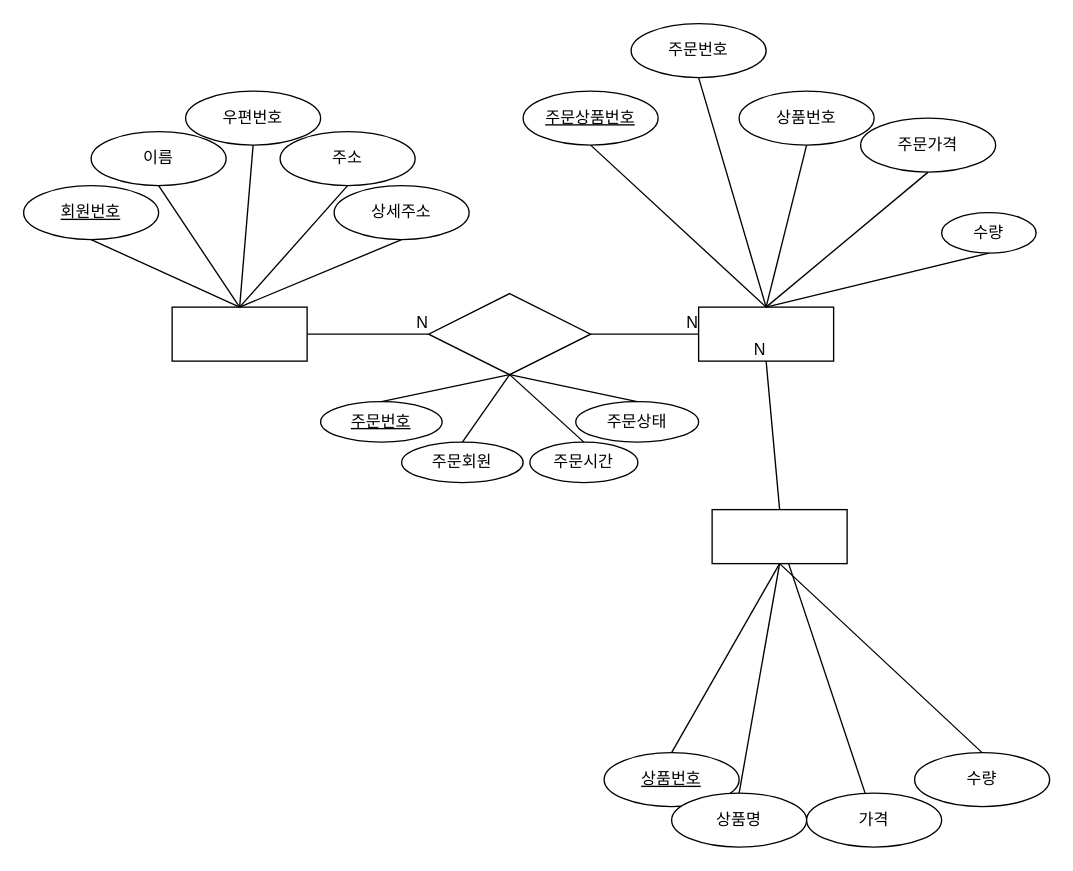
This 1073x871 diagram has some shape labels left out. The centre of each missing label's shape, as x and y in pixels:
상품: the point at 779,536
주문: the point at 509,333
주문상품: the point at 765,333
회원: the point at 239,333
